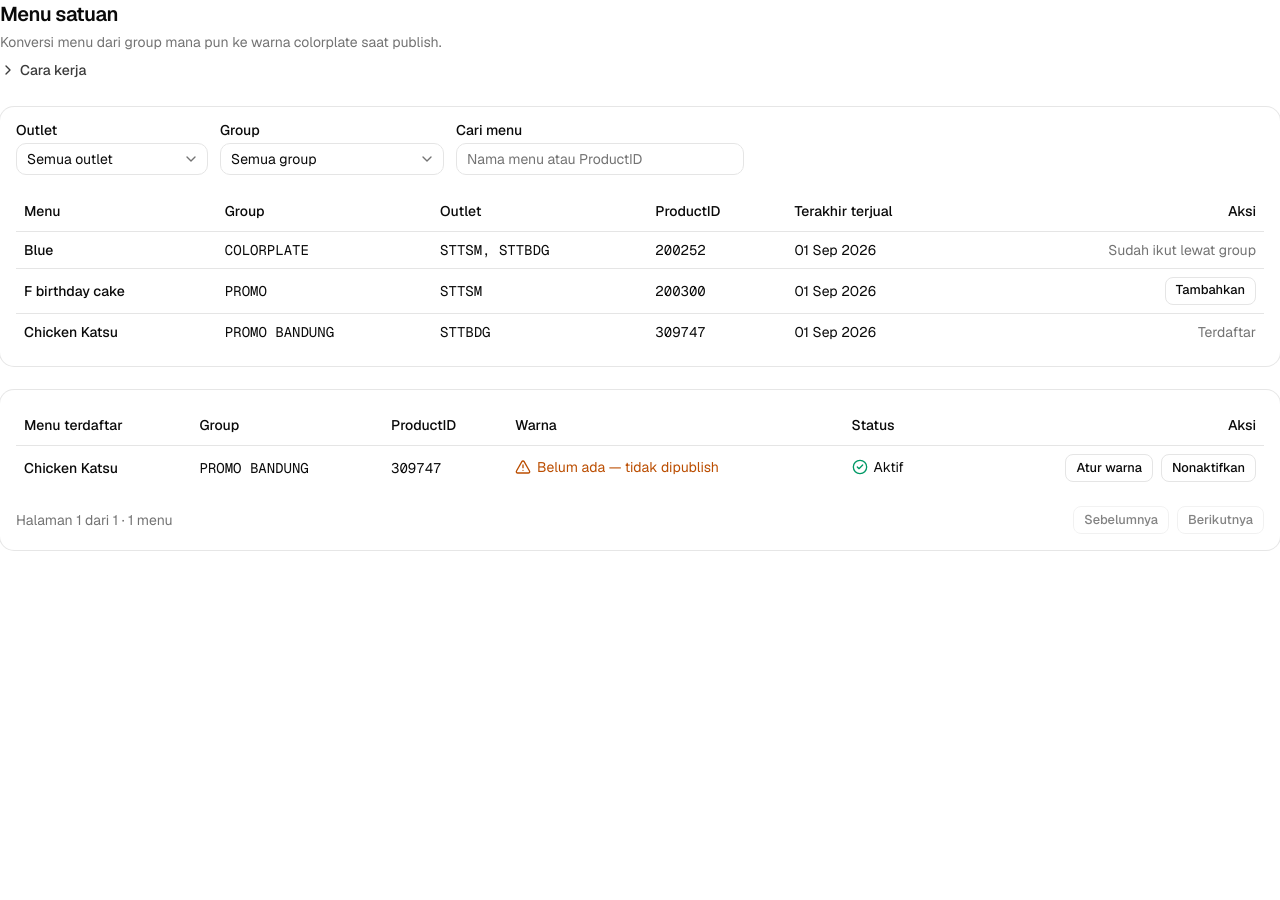
ProductMenusView — mapping per menu › warna yang sudah dipakai tidak muncul lagi di pilihan
What coordinates should you click on to do the following:
click the button "Atur warna"
I would click on:
 (1109, 468)
Its box is [1065,454,1153,482].
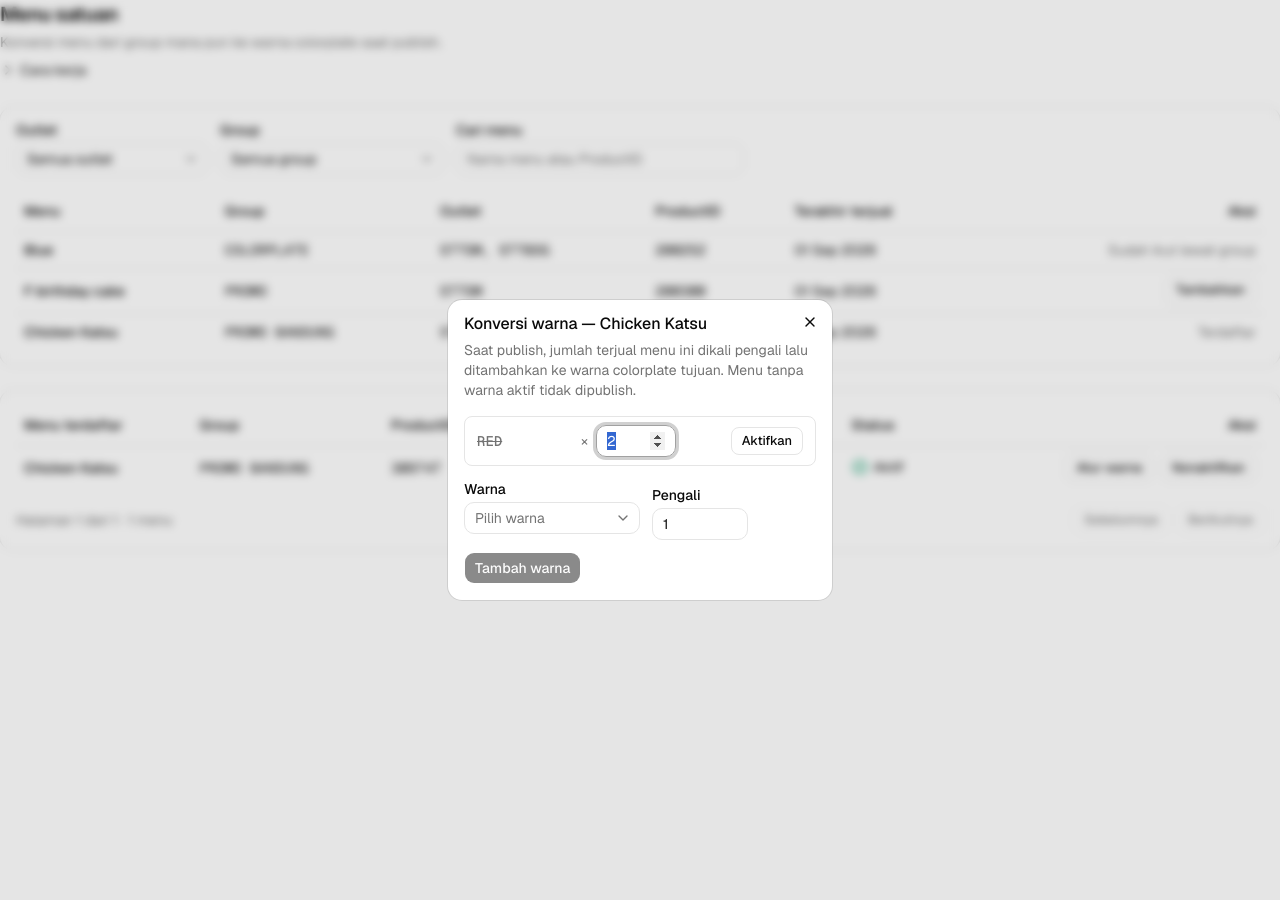
What coordinates should you click on to do the following:
click the dropdown labelled "warna"
I would click on:
 (552, 518)
Its box is [464,502,640,534].
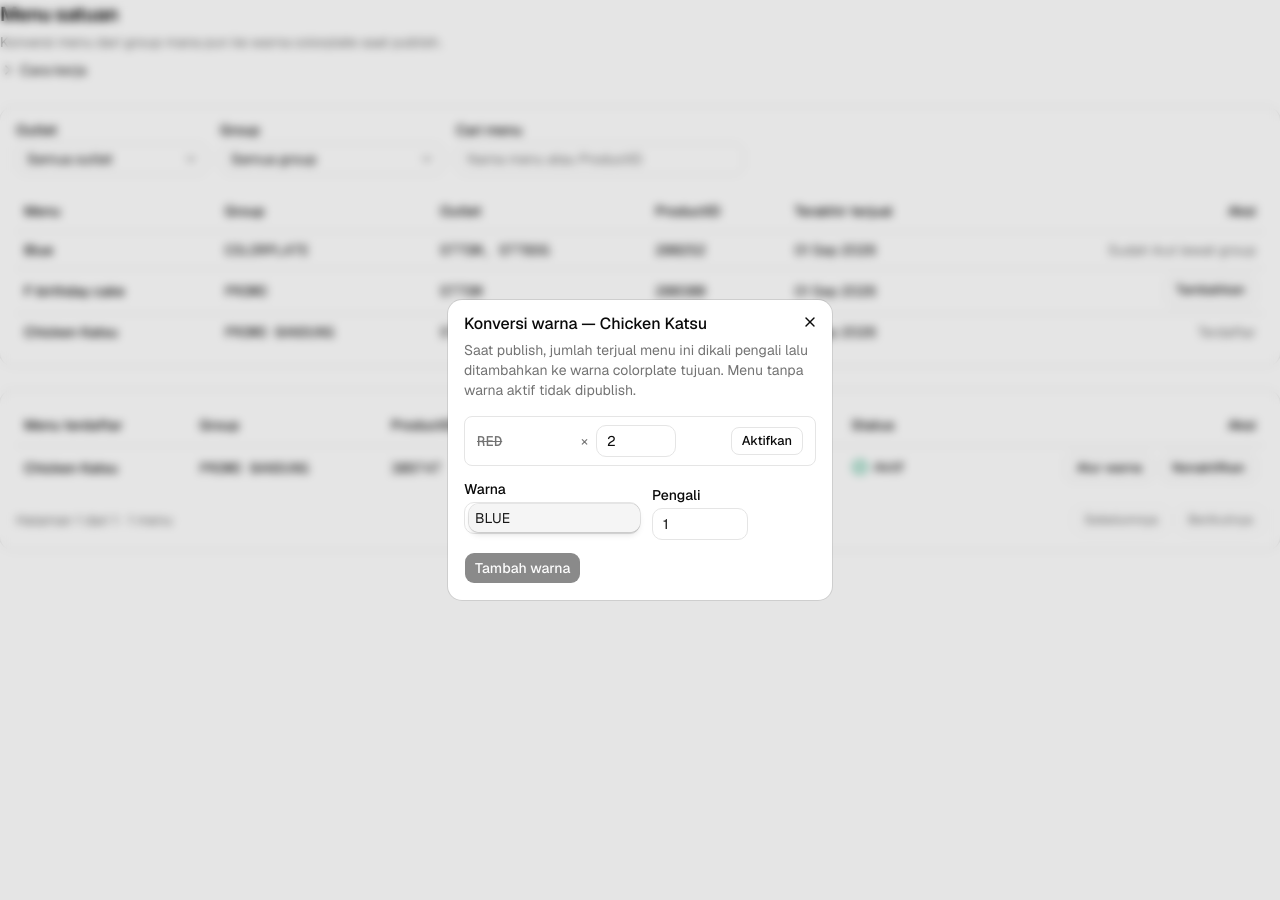
Expected: the option "BLUE" is shown, [469,504,640,532]
